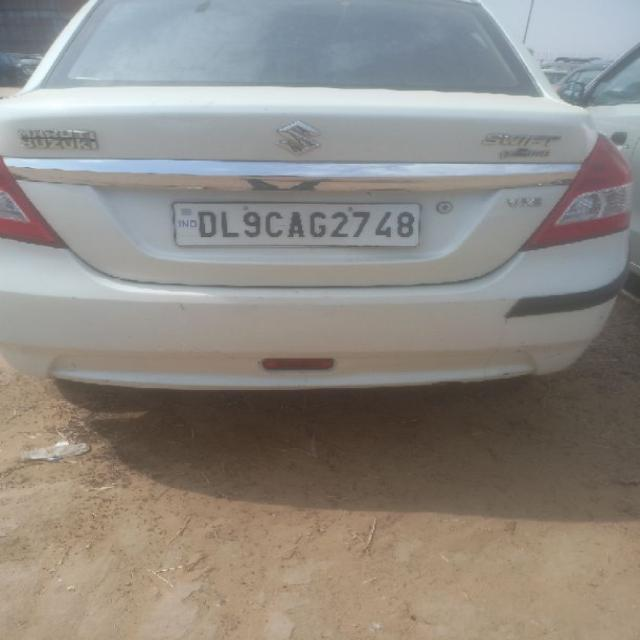license_plate: (170, 200, 422, 248)
